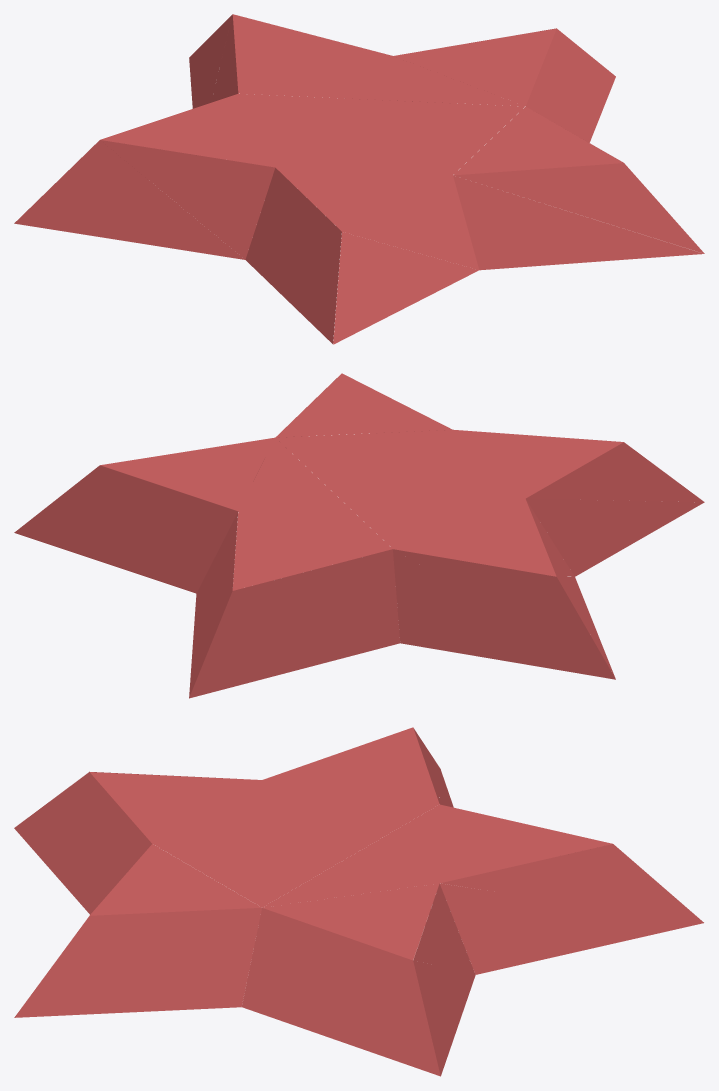
Rendered from obj_star_switch.glb.
3 views of the same model, one above another, from view 1: azimuth 30°, elevation 25°; view 2: azimuth 150°, elevation 25°; view 3: azimuth 270°, elevation 25° (orthographic). The views are drawn at different scales.
Parts seen in each view (by area): view 1: obj_star_switch_col; view 2: obj_star_switch_col; view 3: obj_star_switch_col.
Boxes of the visible parts, x1=… form: obj_star_switch_col: x1=14, y1=14, x2=704, y2=344; obj_star_switch_col: x1=14, y1=373, x2=704, y2=698; obj_star_switch_col: x1=14, y1=727, x2=703, y2=1076.
Size of the model in its own units: 2.5 by 0.3007 by 2.38.
